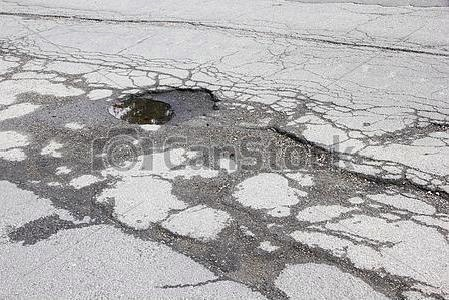pothole: (103, 82, 219, 126), (263, 124, 330, 154)
